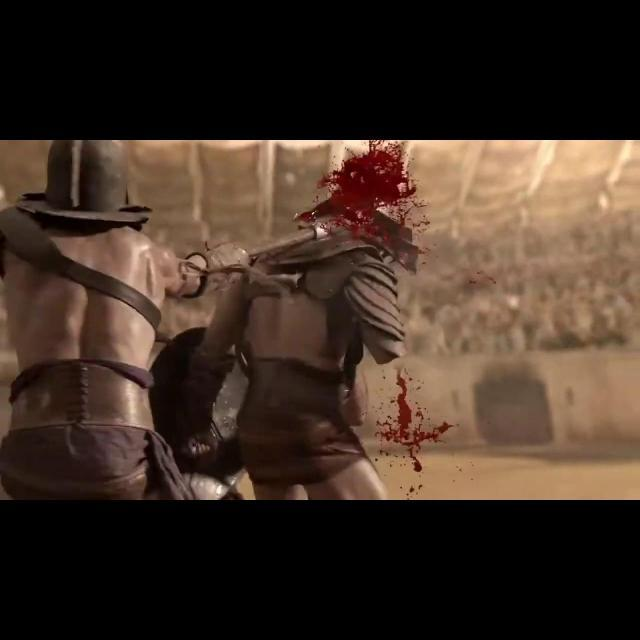blood: (296, 140, 430, 232), (376, 366, 454, 476)
